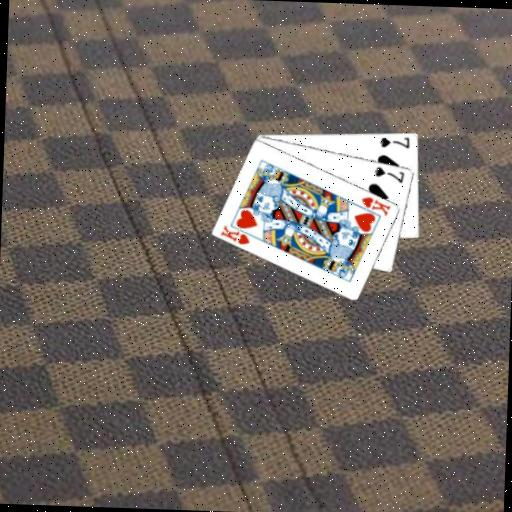7S: (371, 163, 406, 184), (376, 132, 411, 149)
KH: (218, 221, 252, 246), (358, 193, 392, 217)
